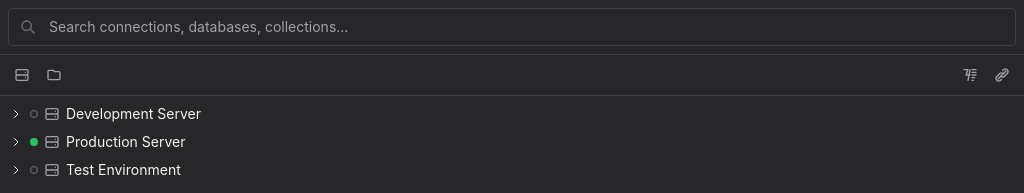
it: Sidebar Search › shows clear button when search has text
// Type in search
Type "test" into the field with placeholder "Search connections, databases, collections..." at x=512, y=27, box [8,8,1016,46]
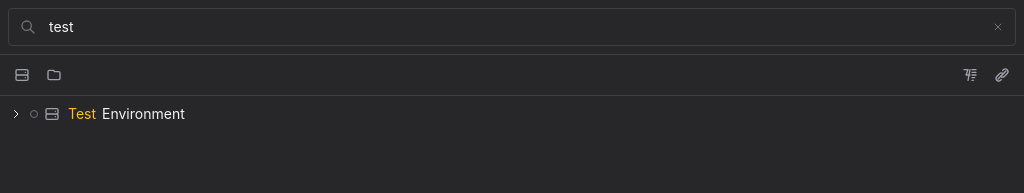
Expected: the button titled "Clear search" is shown, [988,17,1008,37]
